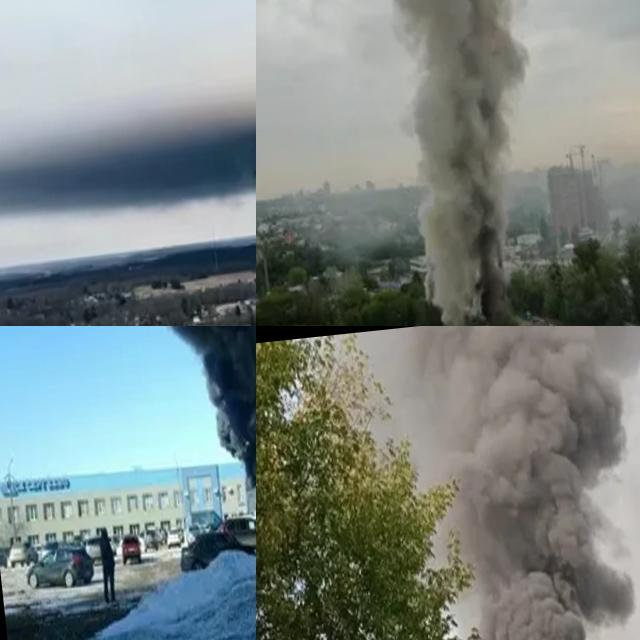smoke: (348, 0, 582, 326), (423, 326, 640, 640), (0, 326, 256, 505)
